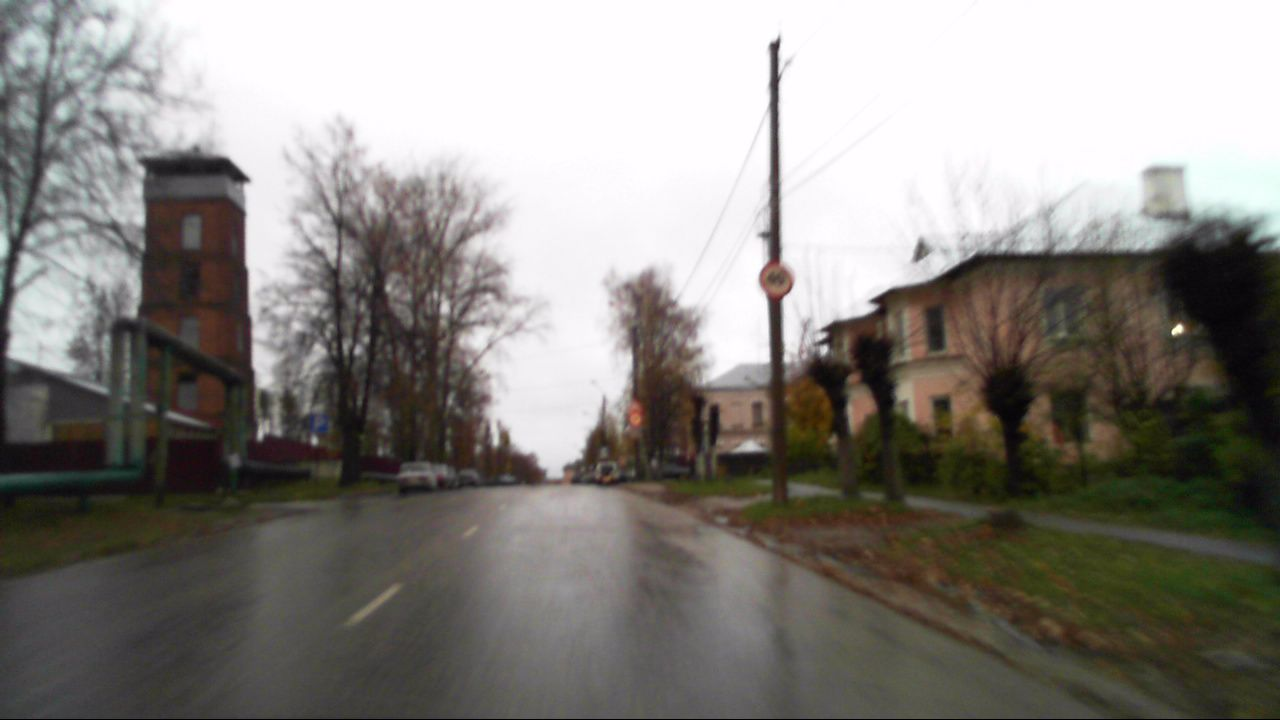speed_warning_40: (759, 261, 794, 298)
